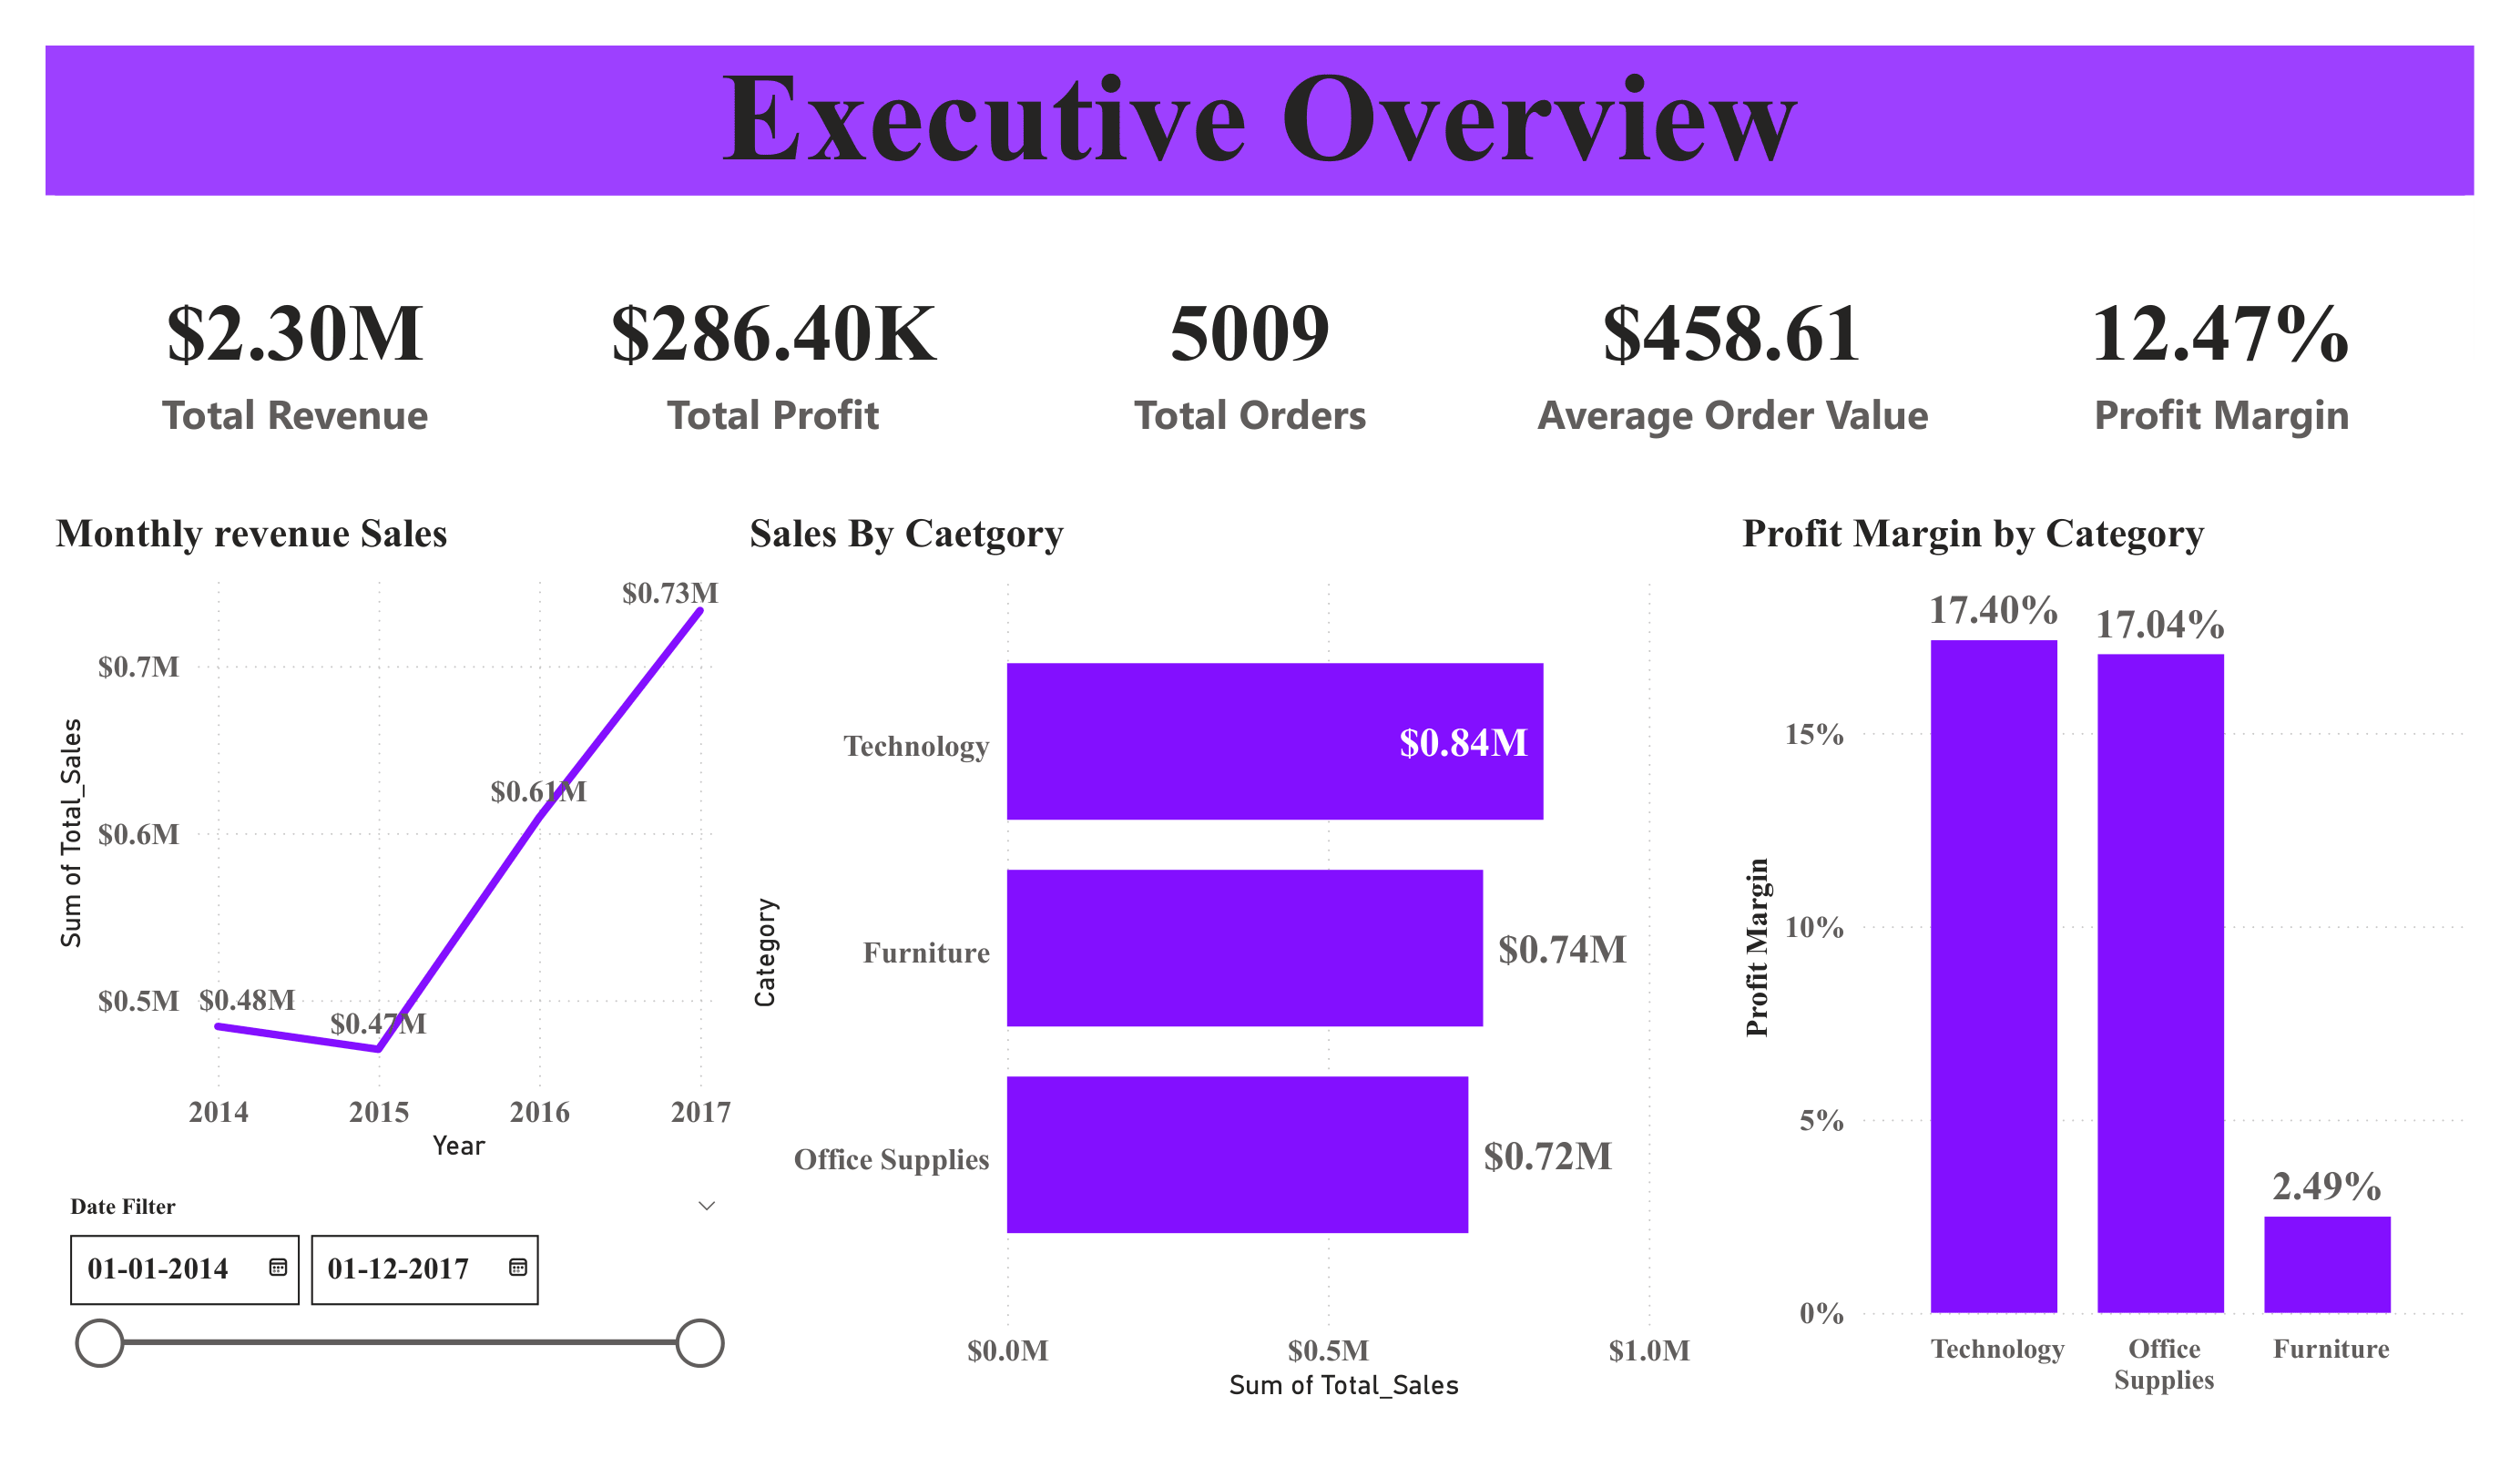

The dashboard page shown, as its layout file describes it:
{"tool":"powerbi","page":{"name":"Executive Overview","canvas":[1280,720],"ordinal":0},"visuals":[{"type":"card","fields":{"Values":["Sum(kpis.Total_Revenue)"]},"box":[0,78.6,262.9,167.1],"z":0},{"type":"card","fields":{"Values":["Sum(kpis.Total_Profit)"]},"box":[262.9,78.6,241.4,167.1],"z":1000},{"type":"card","fields":{"Values":["Sum(kpis.Total_Orders)"]},"box":[505.7,78.6,258.6,167.1],"z":2000},{"type":"card","fields":{"Values":["Sum(kpis.Average_Order_Value)"]},"box":[765.7,78.6,247.1,167.1],"z":3000},{"type":"card","fields":{"Values":["Sum(kpis.Profit_Margin)"]},"box":[1014.3,78.6,265.7,167.1],"z":4000},{"type":"lineChart","title":"Monthly revenue Sales","fields":{"Category":["monthly_summary.Year_Month.Variation.Date Hierarchy.Year","monthly_summary.Year_Month.Variation.Date Hierarchy.Quarter","monthly_summary.Year_Month.Variation.Date Hierarchy.Month","monthly_summary.Year_Month.Variation.Date Hierarchy.Day"],"Y":["Sum(monthly_summary.Total_Sales)"]},"box":[0,245.4,366,347.8],"z":5000},{"type":"clusteredBarChart","title":"Sales By Caetgory","fields":{"Category":["category_summary.Category"],"Y":["Sum(category_summary.Total_Sales)"]},"box":[366,245.4,523,474],"z":6000},{"type":"clusteredColumnChart","fields":{"Category":["category_summary.Category"],"Y":["Avg(category_summary.Profit_Margin)"]},"box":[889,245.4,391.2,474],"z":7000},{"type":"slicer","fields":{"Values":["monthly_summary.Year_Month"]},"box":[0,600.2,366,119.2],"z":8000},{"type":"textbox","title":"Executive Overview","box":[0,0,1280,78.6],"z":9000}]}

Visuals, with their boxes on the page's 1280x720 design canvas (x1, y1, x2, y2). These are canvas units, not pixel positions in the 2520x1457 screenshot, which may show the page scaled, cropped or inside an application window:
card - Sum(kpis.Total_Revenue): {"left": 0, "top": 79, "right": 263, "bottom": 246}
card - Sum(kpis.Total_Profit): {"left": 263, "top": 79, "right": 504, "bottom": 246}
card - Sum(kpis.Total_Orders): {"left": 506, "top": 79, "right": 764, "bottom": 246}
card - Sum(kpis.Average_Order_Value): {"left": 766, "top": 79, "right": 1013, "bottom": 246}
card - Sum(kpis.Profit_Margin): {"left": 1014, "top": 79, "right": 1280, "bottom": 246}
"Monthly revenue Sales" lineChart: {"left": 0, "top": 245, "right": 366, "bottom": 593}
"Sales By Caetgory" clusteredBarChart: {"left": 366, "top": 245, "right": 889, "bottom": 719}
clusteredColumnChart - category_summary.Category x Avg(category_summary.Profit_Margin): {"left": 889, "top": 245, "right": 1280, "bottom": 719}
slicer - monthly_summary.Year_Month: {"left": 0, "top": 600, "right": 366, "bottom": 719}
"Executive Overview" textbox: {"left": 0, "top": 0, "right": 1280, "bottom": 79}
